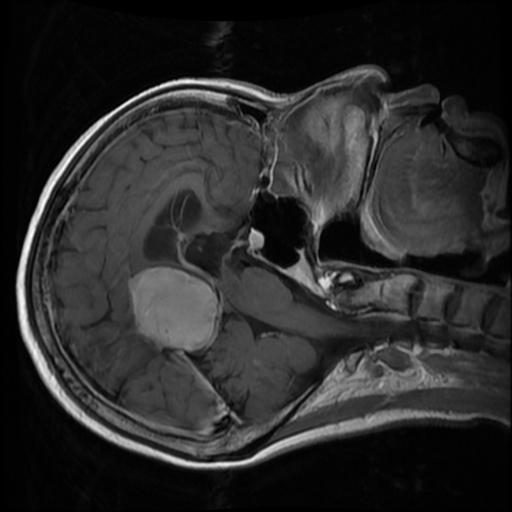meningioma: (126, 266, 217, 350)
